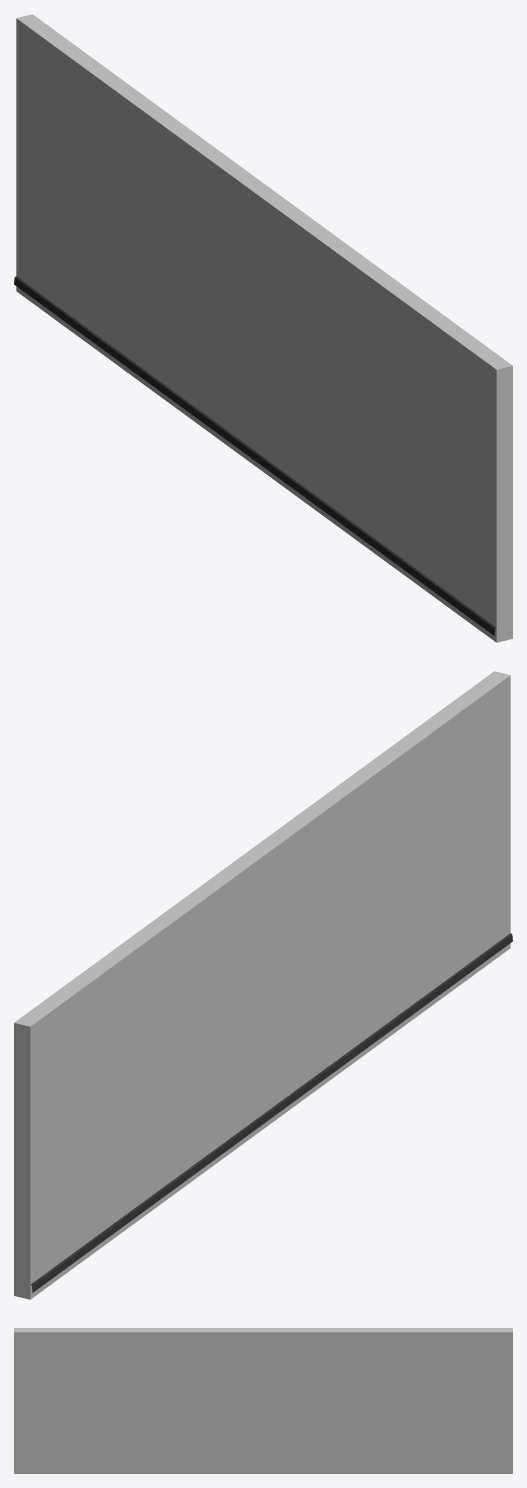
File: BG_GR_BD_Wall_06.fbx
3 renders of one model, top to bottom at view 1: azimuth 30°, elevation 25°; view 2: azimuth 150°, elevation 25°; view 3: azimuth 270°, elevation 25°, orthographic. The views are drawn at different scales.
Visible parts, largest first — view 1: GenRm_wall_bottom_low.004, GenRm_wall_bottom_low.017; view 2: GenRm_wall_bottom_low.004, GenRm_wall_bottom_low.017; view 3: GenRm_wall_bottom_low.004.
Boxes of the visible parts, x1,y1,x2,y2 form: GenRm_wall_bottom_low.004: (16, 14, 512, 642); GenRm_wall_bottom_low.017: (14, 276, 496, 635); GenRm_wall_bottom_low.004: (14, 671, 510, 1299); GenRm_wall_bottom_low.017: (30, 933, 512, 1292); GenRm_wall_bottom_low.004: (14, 1328, 512, 1473).
Size of the model in its own units: 0.4469 by 20 by 6.27.
